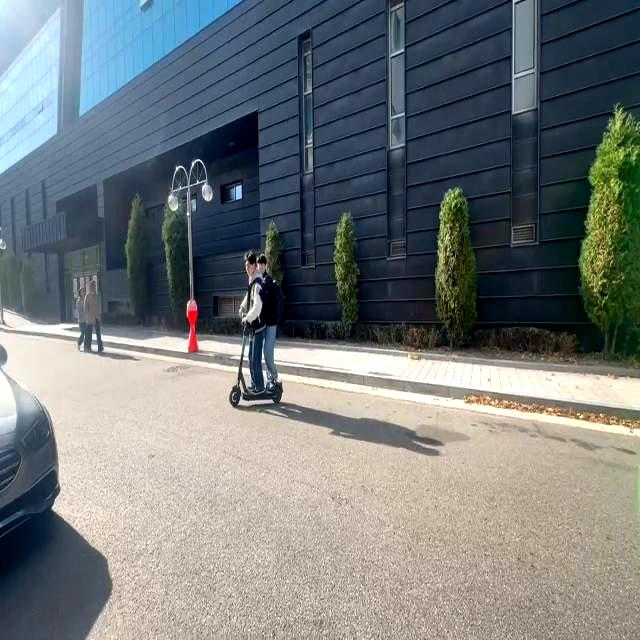bare_head: (236, 247, 258, 277), (258, 247, 272, 278)
human: (237, 250, 270, 396), (250, 246, 280, 396)
kickboard: (220, 375, 293, 409)
